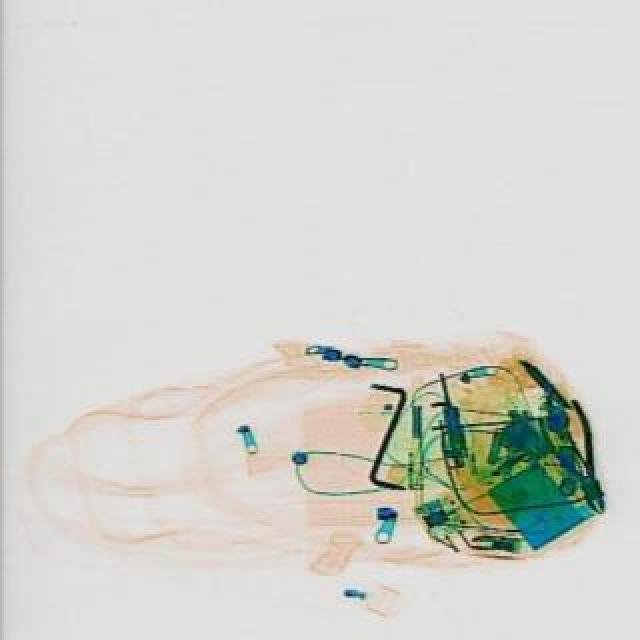wrench: (530, 396, 624, 520)
